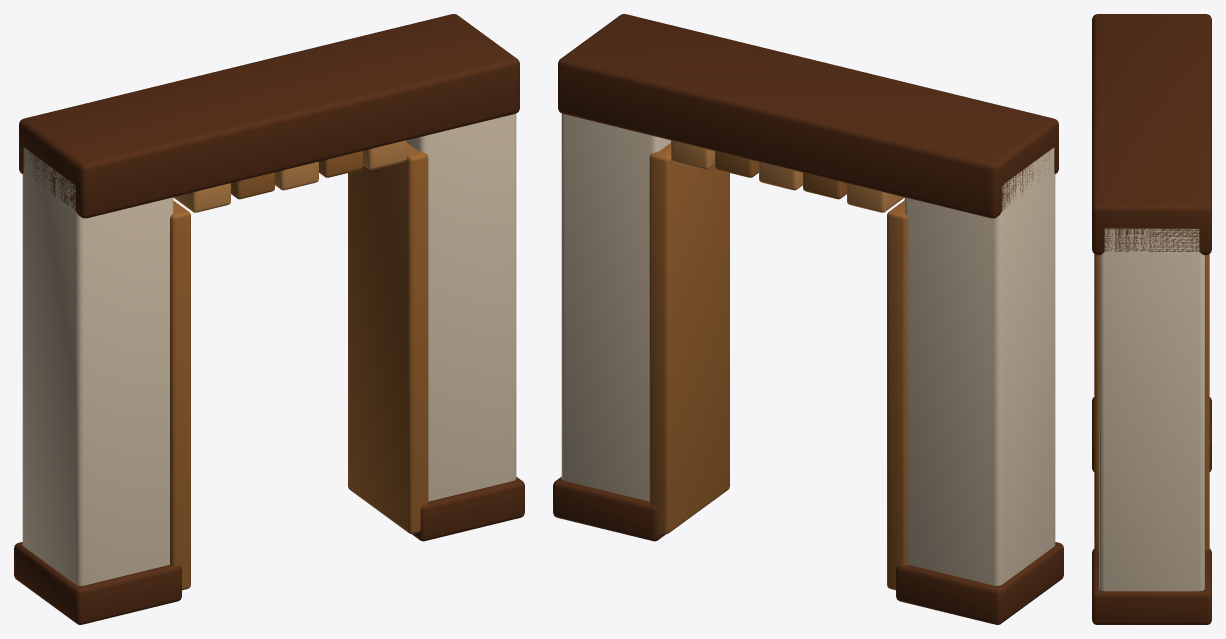
Rendered from wall_doorway.gltf.
3 renders of one model, left to right at view 1: azimuth 30°, elevation 25°; view 2: azimuth 150°, elevation 25°; view 3: azimuth 270°, elevation 25°, orthographic. The views are drawn at different scales.
Parts seen in each view (by area): view 1: DoorPillarL; view 2: DoorPillarL; view 3: DoorPillarL.
Part boxes in pixels (x1,y1,x2,y2): DoorPillarL: [14, 14, 524, 624]; DoorPillarL: [553, 14, 1063, 624]; DoorPillarL: [1092, 14, 1211, 624].
Bounding box in the file's own units: 1.02 × 1 × 0.26.
